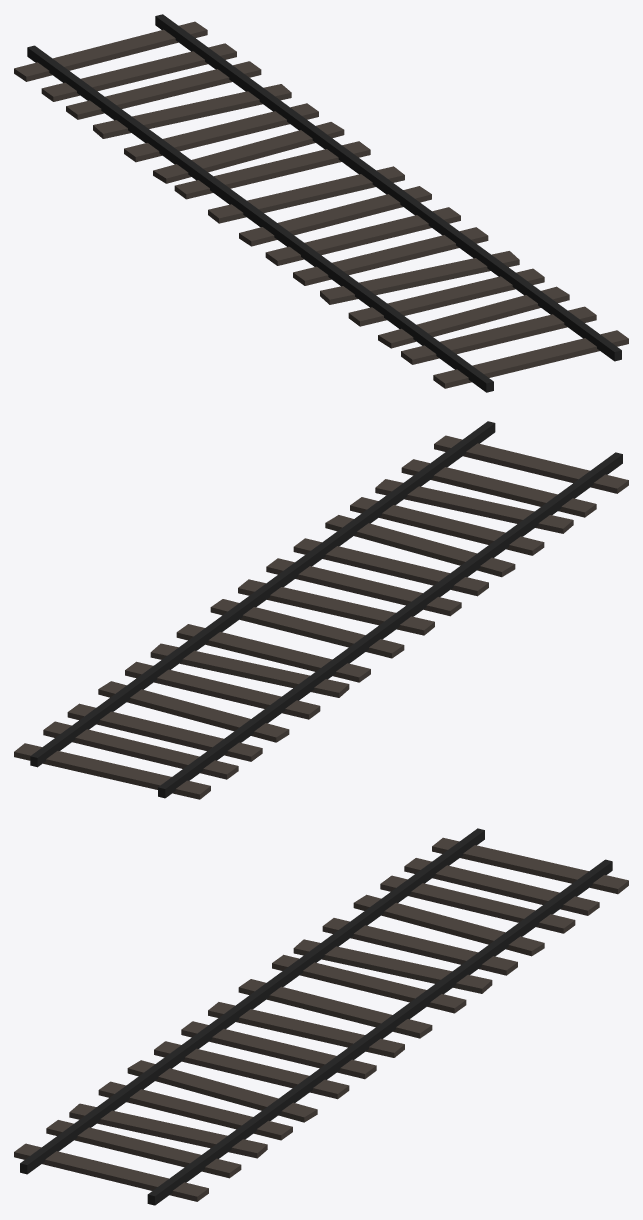
The model's file is Track_Straight.fbx.
3 views of the same model, one above another, from view 1: azimuth 30°, elevation 25°; view 2: azimuth 150°, elevation 25°; view 3: azimuth 330°, elevation 25° (orthographic).
Visible parts, largest first — view 1: Track_Straight; view 2: Track_Straight; view 3: Track_Straight.
Boxes of the visible parts, bbox=[...] form: Track_Straight: bbox=[14, 14, 628, 392]; Track_Straight: bbox=[14, 421, 628, 799]; Track_Straight: bbox=[14, 828, 628, 1205].
Size of the model in its own units: 1.44 by 0.0939 by 6.18.
